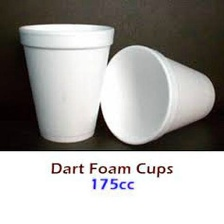paper_cup: (91, 41, 220, 148), (14, 17, 118, 147)
